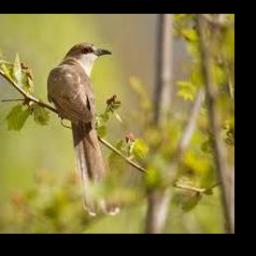Cuckoo: (46, 42, 118, 216)
